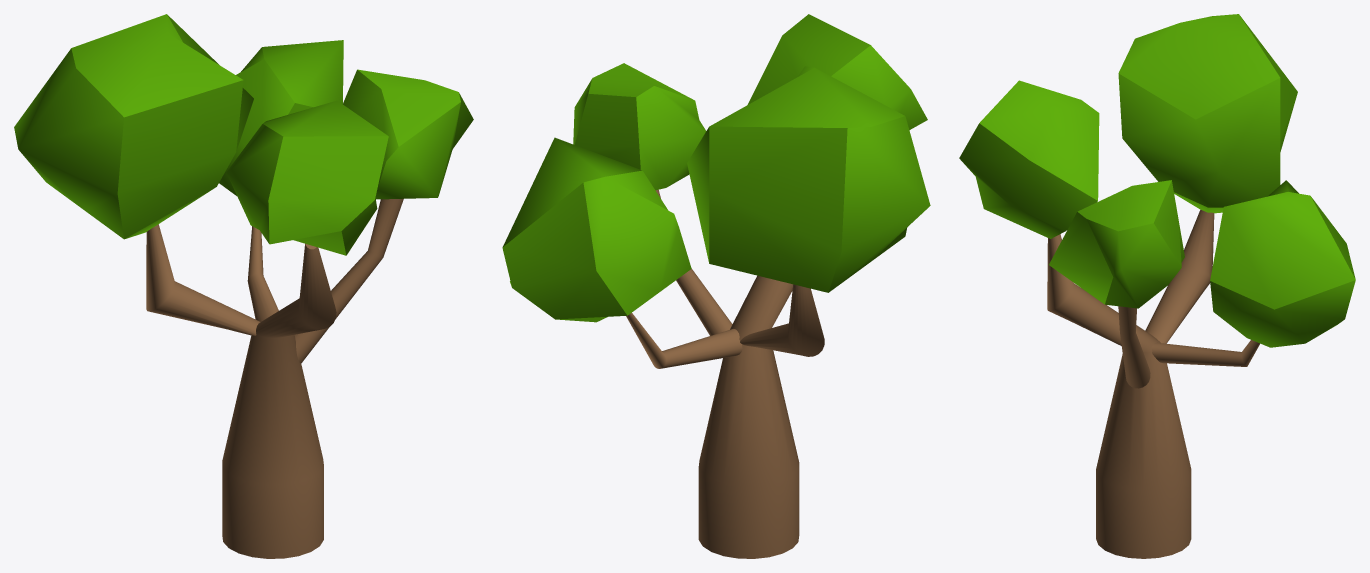
Rendered from three.fbx.
The picture shows the model from 3 angles, left to right: view 1: azimuth 30°, elevation 25°; view 2: azimuth 150°, elevation 25°; view 3: azimuth 270°, elevation 25°; orthographic projection. The views are drawn at different scales.
Parts seen in each view (by area): view 1: pCube10; view 2: pCube10; view 3: pCube10.
Part boxes in pixels (x1,y1,x2,y2): pCube10: [14, 14, 473, 558]; pCube10: [502, 14, 930, 558]; pCube10: [959, 14, 1355, 558].
Size of the model in its own units: 759 by 909 by 685.
